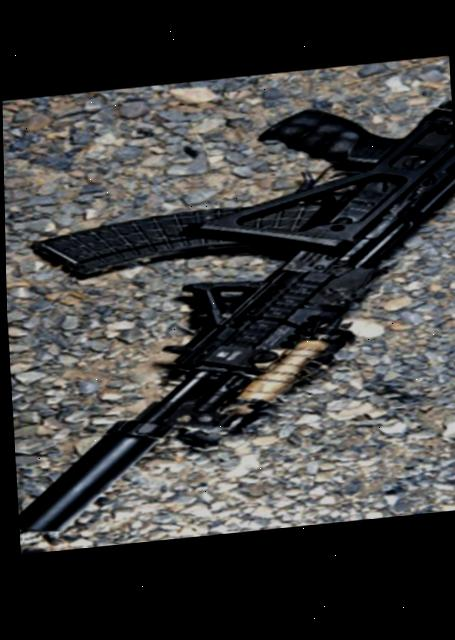rifle: (2, 98, 455, 543)
